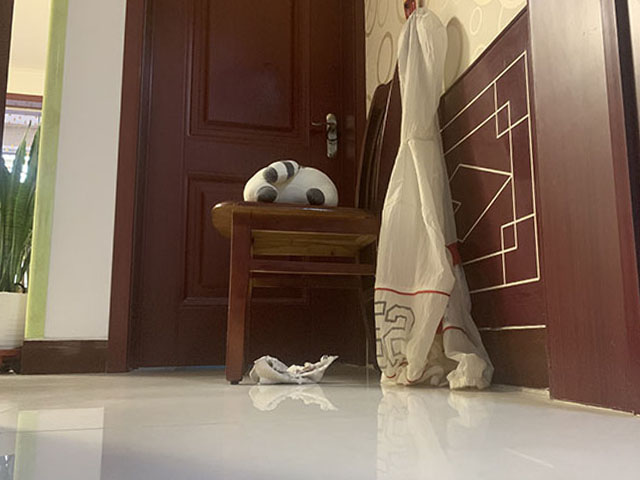socks: (239, 353, 341, 385)
stool: (209, 56, 400, 385)
